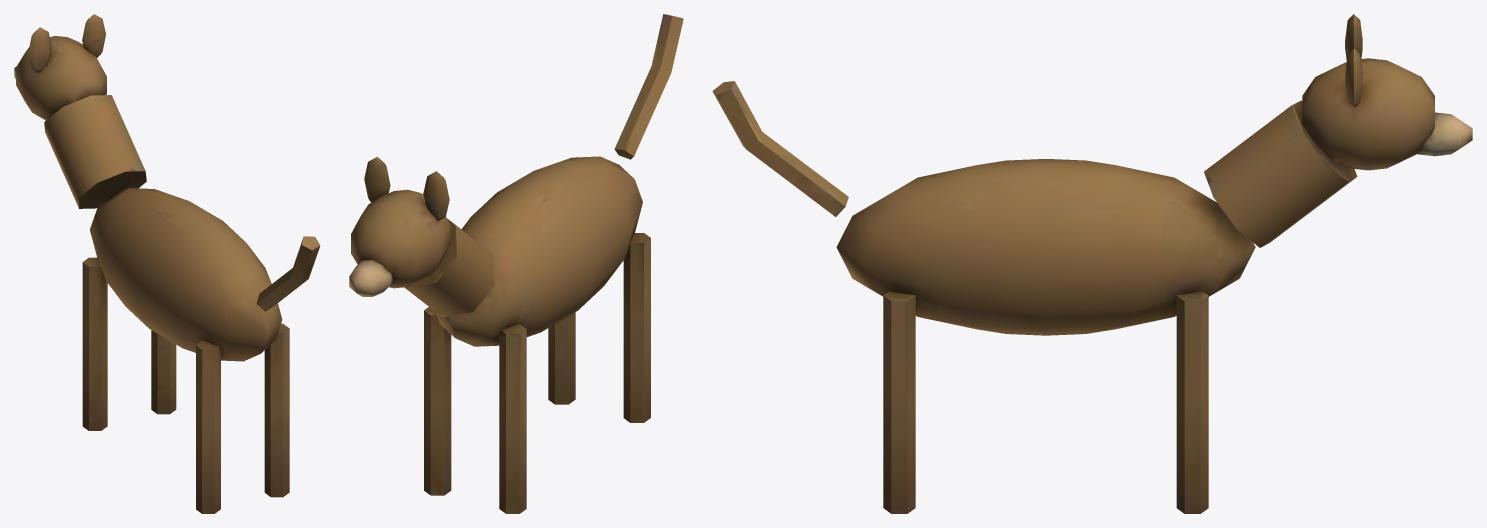
File: dog.glb
The picture shows the model from 3 angles, left to right: view 1: azimuth 30°, elevation 25°; view 2: azimuth 150°, elevation 25°; view 3: azimuth 270°, elevation 25°; orthographic projection. The views are drawn at different scales.
Parts seen in each view (by area): view 1: body; view 2: body; view 3: body.
Boxes of the visible parts, bbox=[...] form: body: bbox=[14, 14, 320, 513]; body: bbox=[349, 14, 683, 513]; body: bbox=[712, 14, 1472, 513].
Size of the model in its own units: 0.2132 by 0.6855 by 1.04.
1 material, 1 textured.
